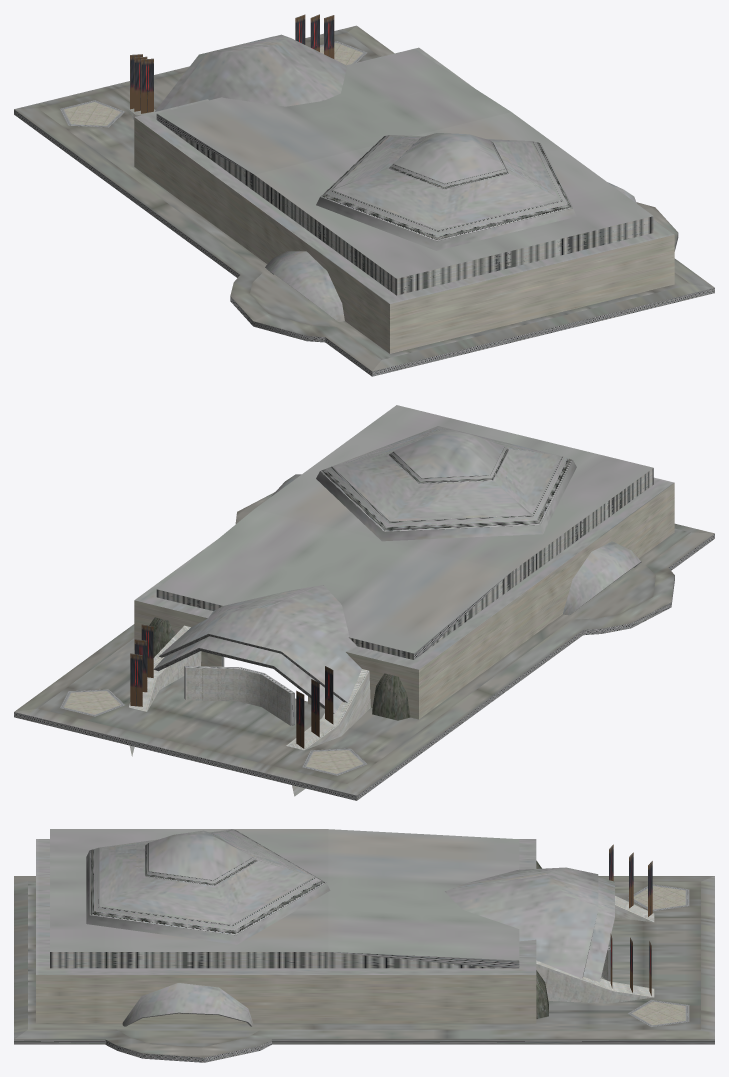
The model's file is mun_corl_guild_theater_s01_r0_mesh_l4.fbx.
3 views of the same model, one above another, from view 1: azimuth 30°, elevation 25°; view 2: azimuth 150°, elevation 25°; view 3: azimuth 270°, elevation 25° (orthographic). The views are drawn at different scales.
Parts seen in each view (by area): view 1: mesh_node; view 2: mesh_node; view 3: mesh_node.
Part boxes in pixels (x1,y1,x2,y2): mesh_node: [14, 14, 714, 376]; mesh_node: [14, 405, 714, 800]; mesh_node: [14, 829, 714, 1062].
Size of the model in its own units: 81.75 by 31.04 by 121.
4 materials, 4 textured.
